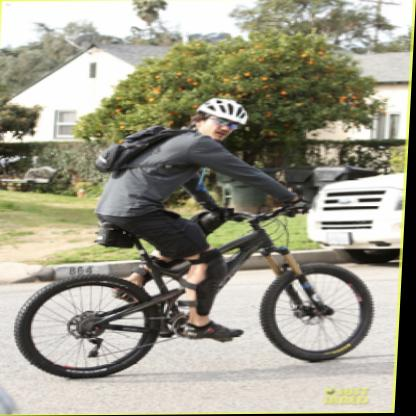With Helmet: (180, 87, 266, 153)
